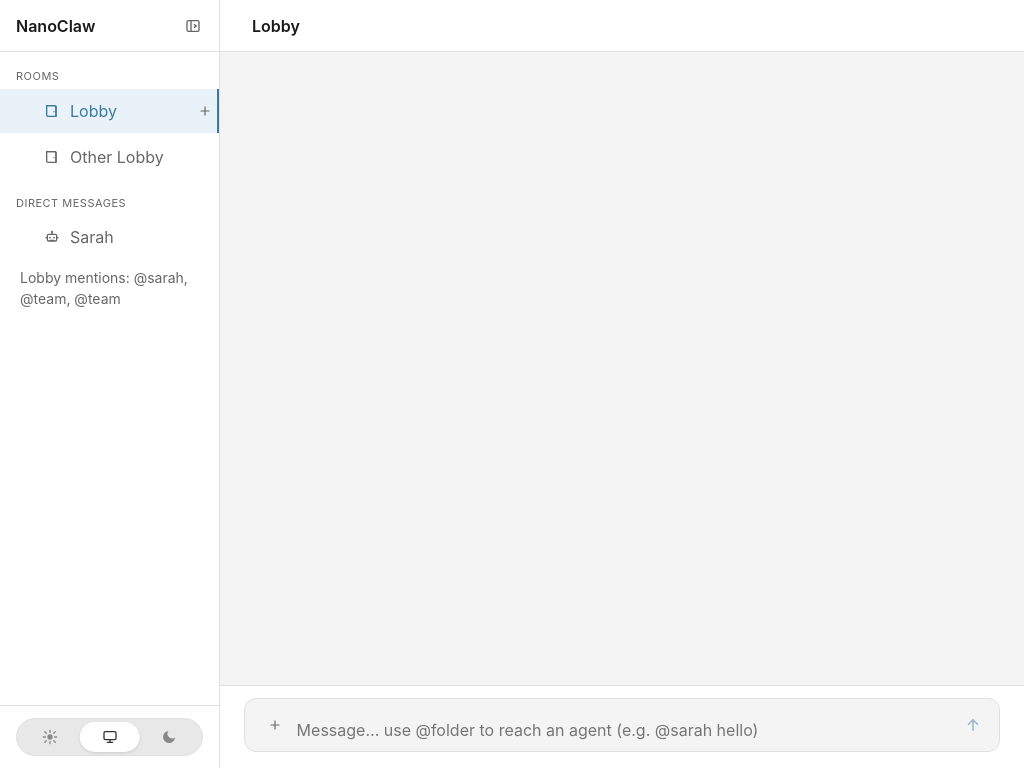
Test: App › optimistically adds mentioned agents to engaged state on send
The image size is (1024, 768).
Expected: the heading "Lobby" is shown, [252, 14, 300, 38]
In the text box: x=624, y=730 [297, 719, 951, 741], type "@sarah hello"
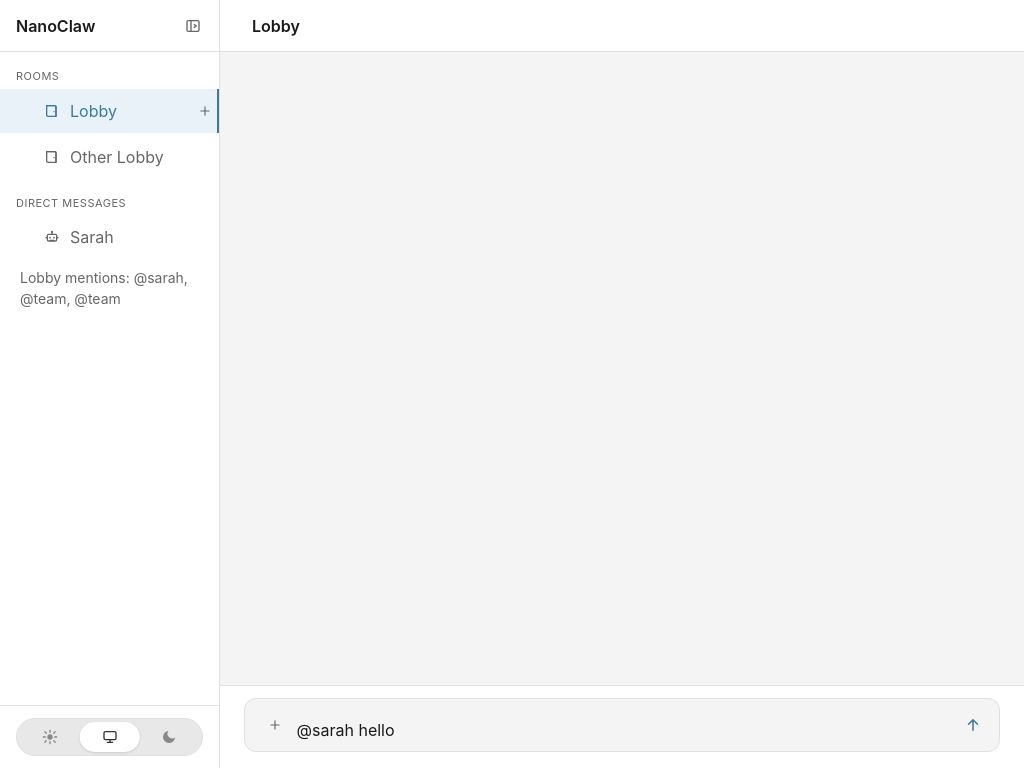
Click the button named "Send message": x=973, y=725 [957, 709, 989, 741]
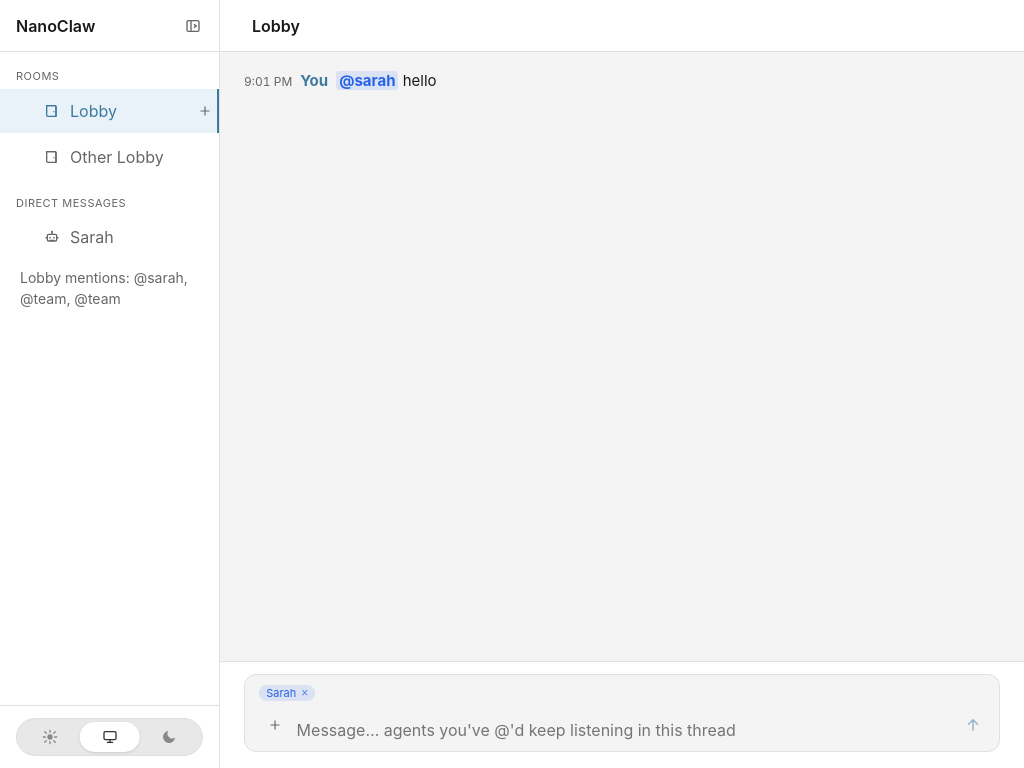
Now the button named "Stop Sarah from listening" is shown, box [298, 686, 312, 700]
In the text box: x=624, y=730 [297, 719, 951, 741], type "@team join us"
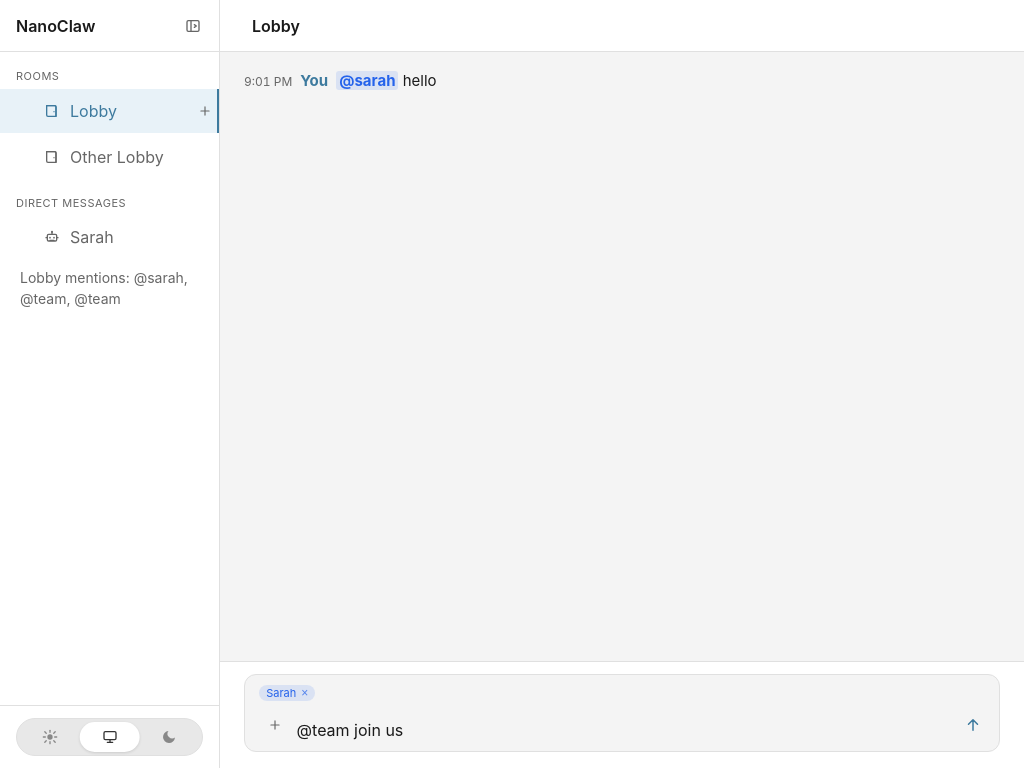
Click the button named "Send message": x=973, y=725 [957, 709, 989, 741]
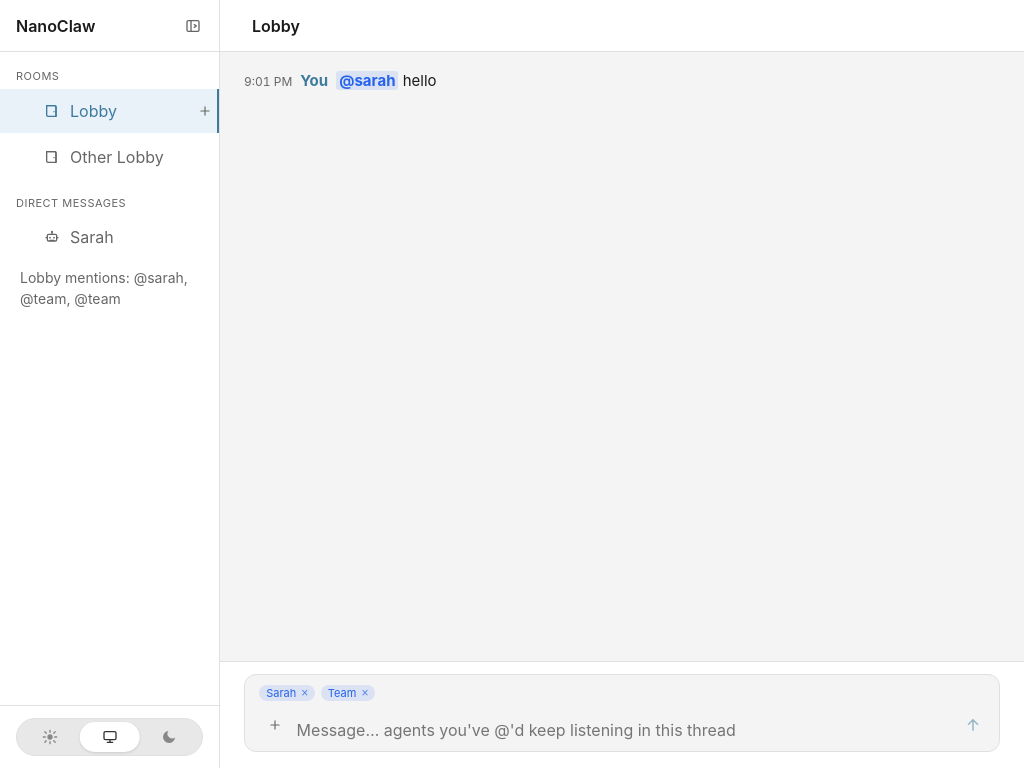
Now the button named "Stop Team from listening" is shown, box [358, 686, 372, 700]
